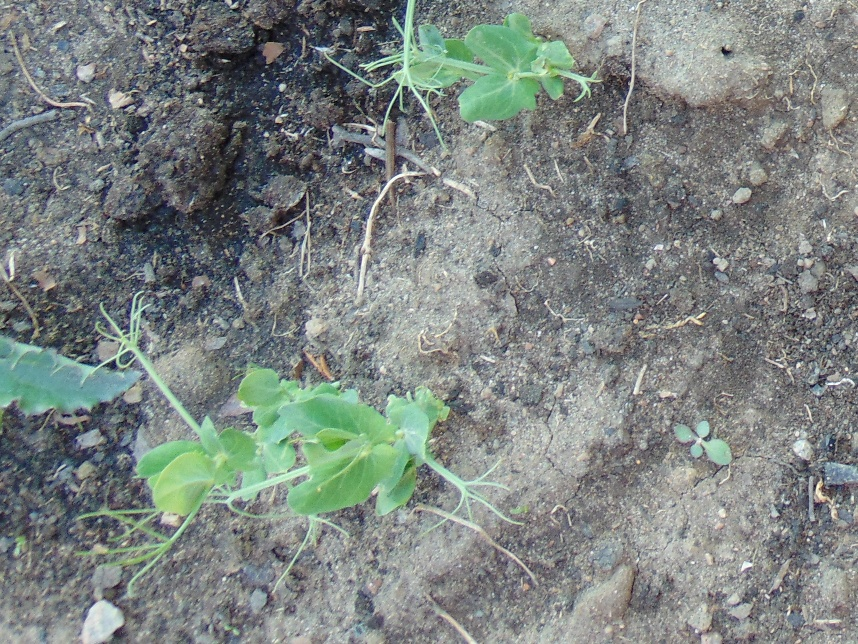crop: (115, 335, 500, 554), (365, 17, 595, 127), (99, 311, 231, 448)
weed: (1, 335, 142, 415), (670, 419, 730, 466)
